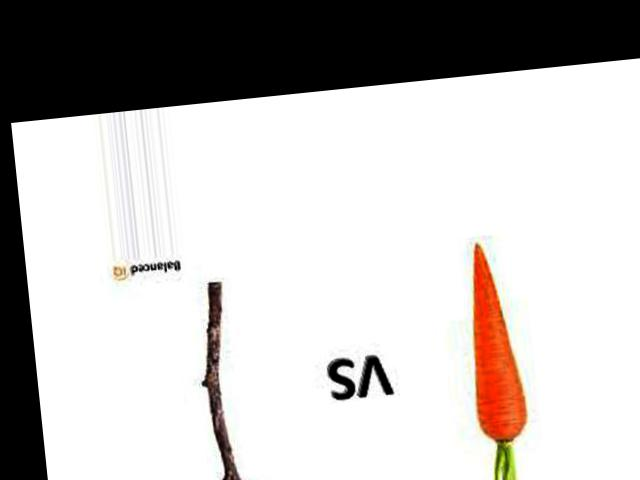carrot: (449, 232, 532, 455)
